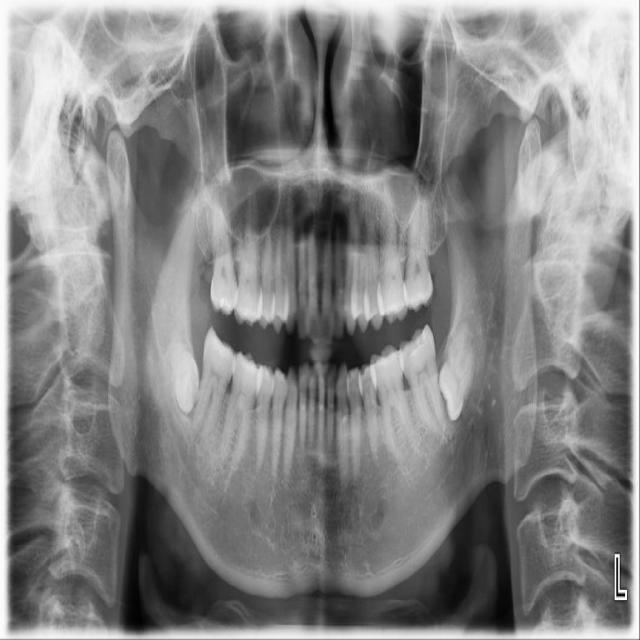Filling: (400, 333, 427, 359), (217, 295, 234, 311)
impacted tooth: (439, 320, 476, 423), (167, 321, 202, 413)
